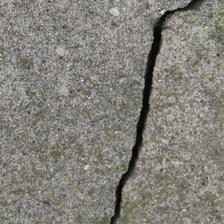Crack: (55, 1, 147, 217)
